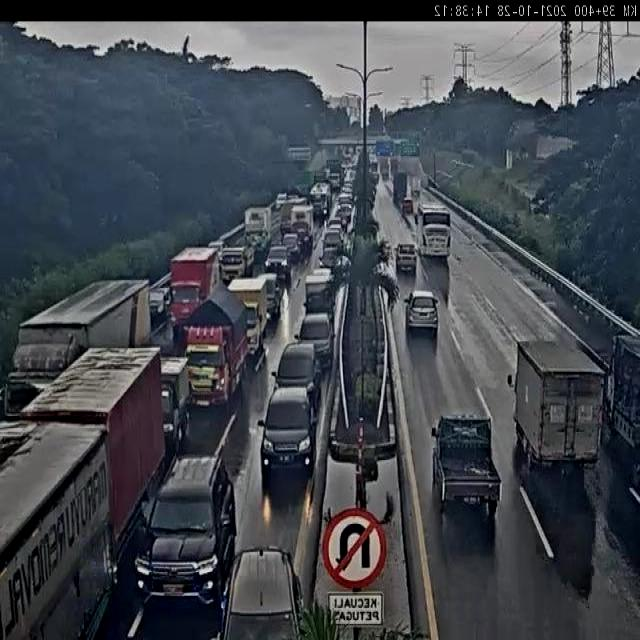Bus: (414, 202, 452, 258)
Car: (135, 451, 237, 604), (216, 545, 308, 639), (257, 385, 316, 474), (273, 342, 323, 413), (296, 311, 332, 369), (404, 289, 440, 338), (265, 244, 292, 286), (281, 232, 302, 268), (395, 242, 417, 274), (316, 246, 342, 272), (321, 229, 345, 253), (326, 215, 344, 232), (402, 197, 414, 214)
Truck: (17, 340, 165, 572), (0, 417, 114, 640), (4, 274, 152, 416), (512, 336, 604, 471), (178, 280, 252, 410), (429, 412, 502, 519), (165, 247, 220, 340), (604, 331, 640, 455), (221, 275, 268, 356), (155, 354, 191, 452), (244, 203, 274, 262), (218, 239, 256, 285), (304, 274, 335, 320), (289, 204, 315, 252), (258, 273, 280, 320), (149, 284, 171, 327), (310, 181, 332, 219), (392, 170, 408, 199), (409, 174, 422, 195), (379, 162, 390, 180)
